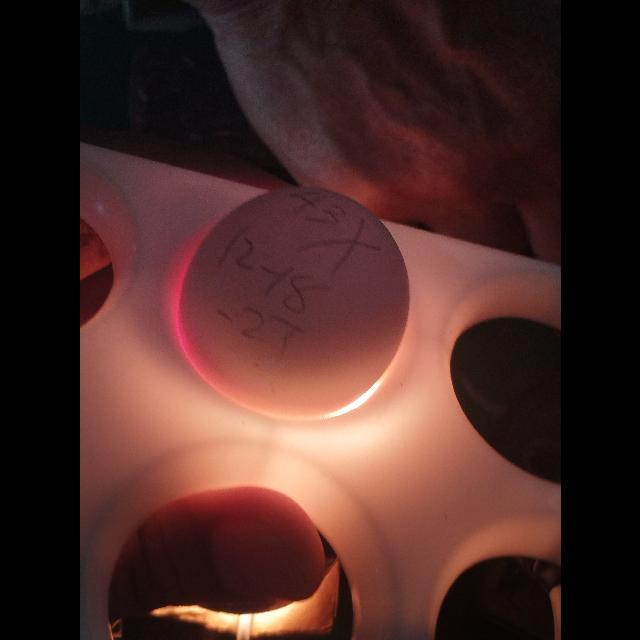Fertile: (171, 182, 415, 424)
